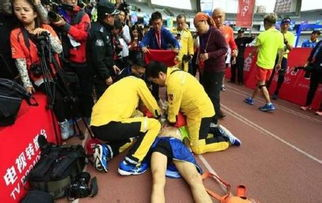10+: (1, 1, 321, 173)
down: (135, 96, 212, 203)
